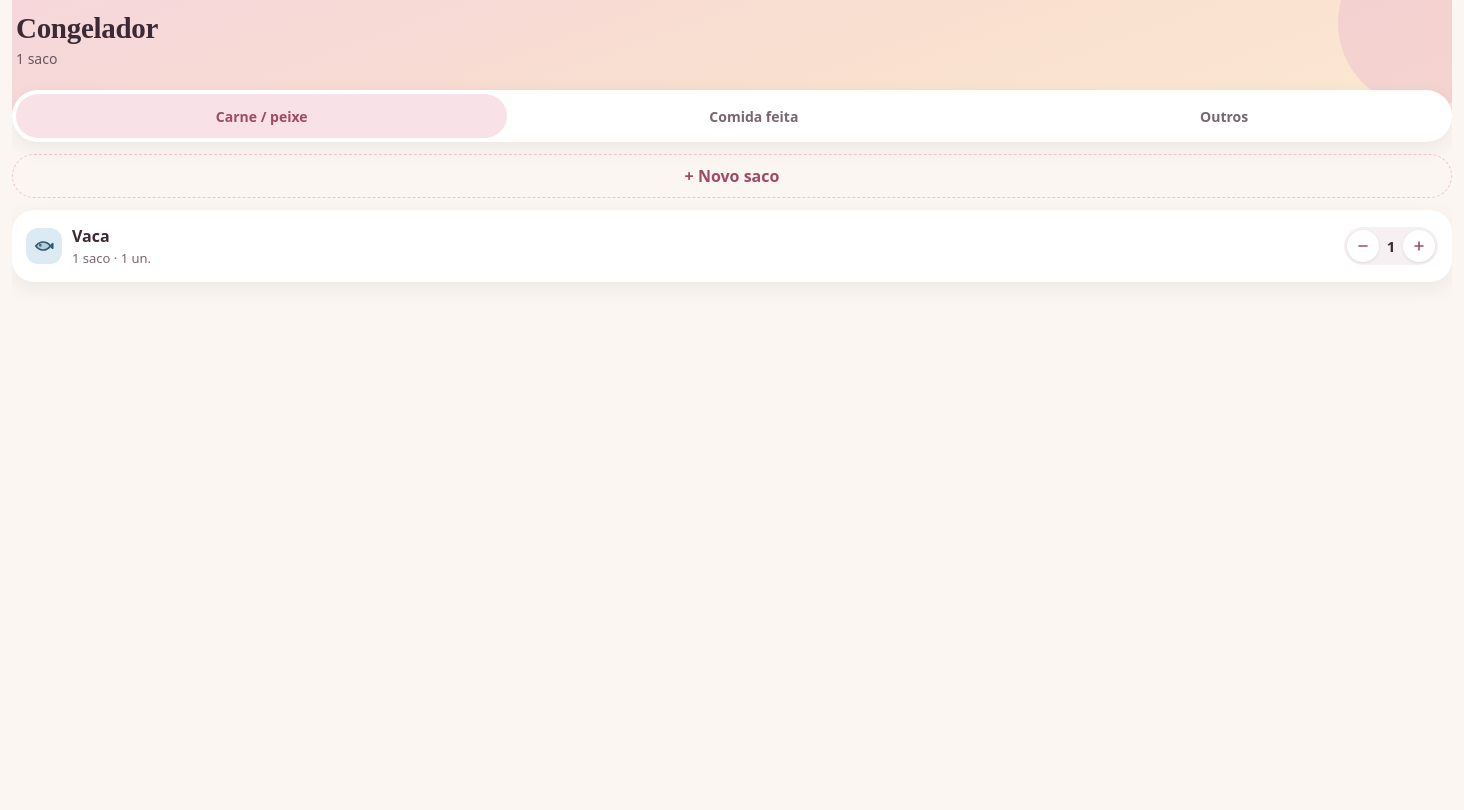
Test: the last bag shows "Acabou X" in the bottom toast, not a card at the top
The image size is (1464, 810).
Click the button named "Tirar um saco de Vaca": (1363, 246) [1347,230,1379,262]
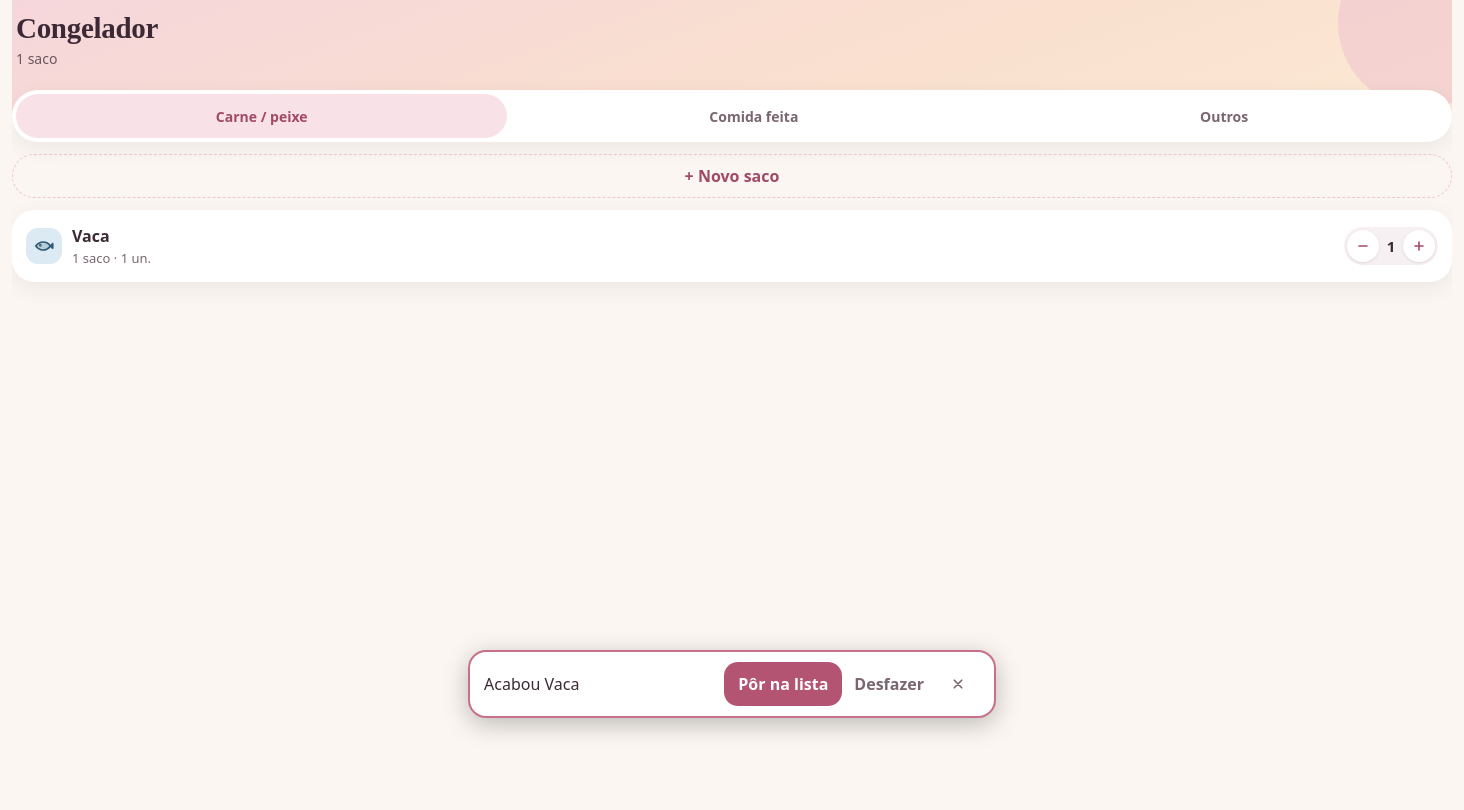
Check: the text "Acabou Vaca" is shown, box [484,673,579,695]
